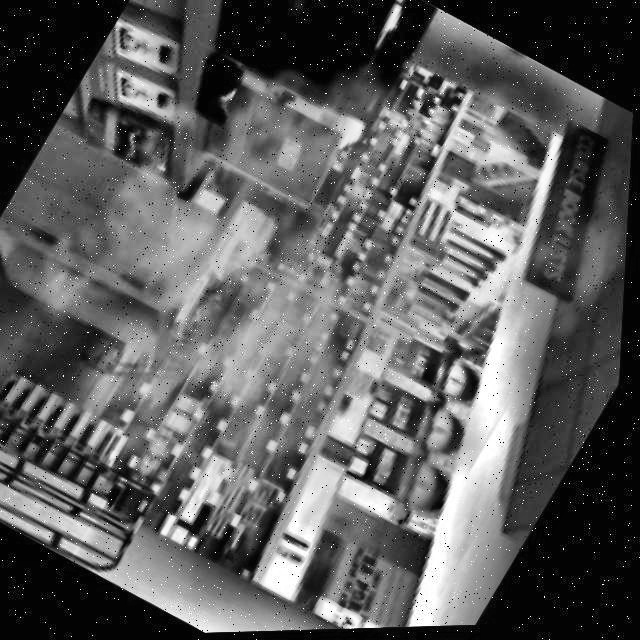Smoke: (0, 0, 634, 633)
